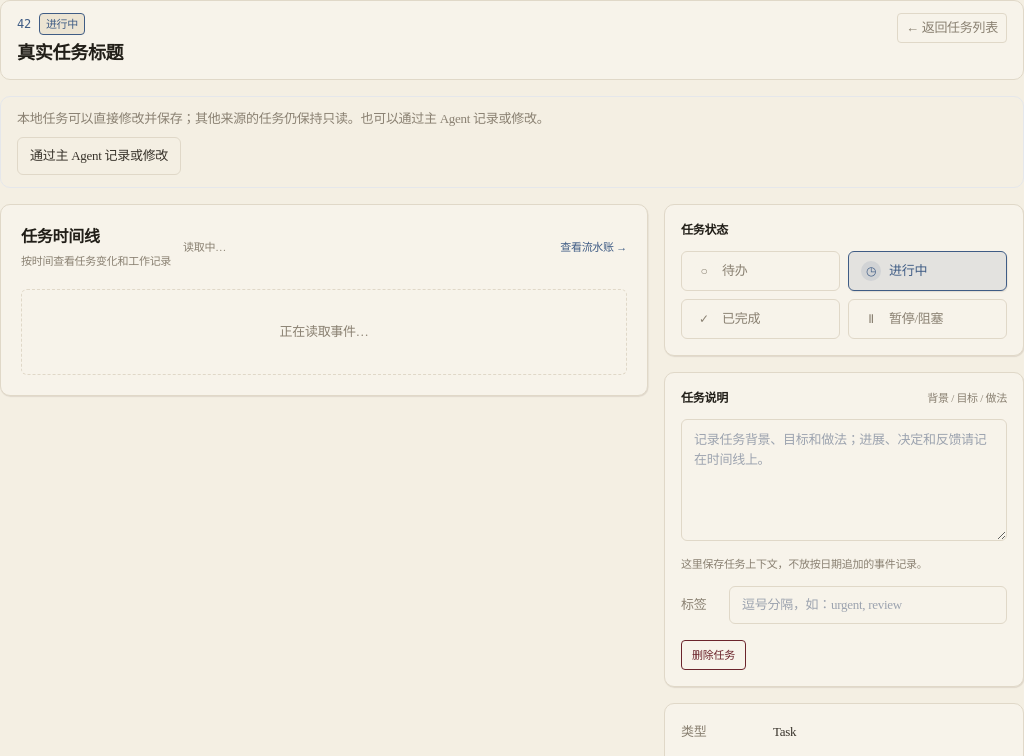
Test: 监督模式下任务抽屉不能直接录入，修改打开同一个主 Agent
The width and height of the screenshot is (1024, 756).
Expected: the text box is disabled, [681,419,1007,541]
Expected: the field is disabled, [729,586,1007,624]
Click the button "通过主 Agent 记录或修改": (99, 156) [17,137,181,175]
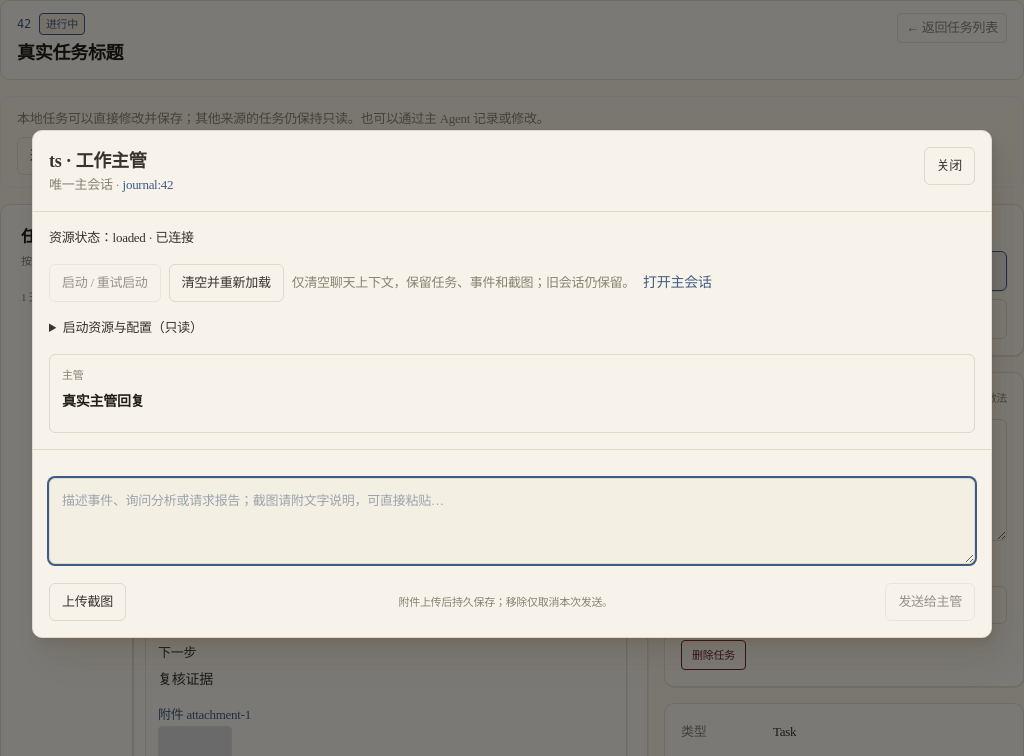
Now the dialog "ts · 工作主管" is shown
Now the text box named "给主管的消息" is enabled, box [49,478,975,564]
